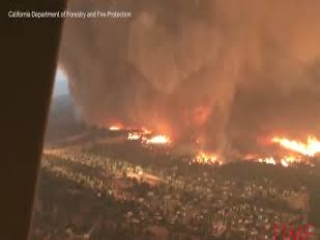fire: (244, 133, 318, 171), (111, 120, 174, 150), (188, 147, 222, 167)
smoke: (67, 14, 295, 128)
